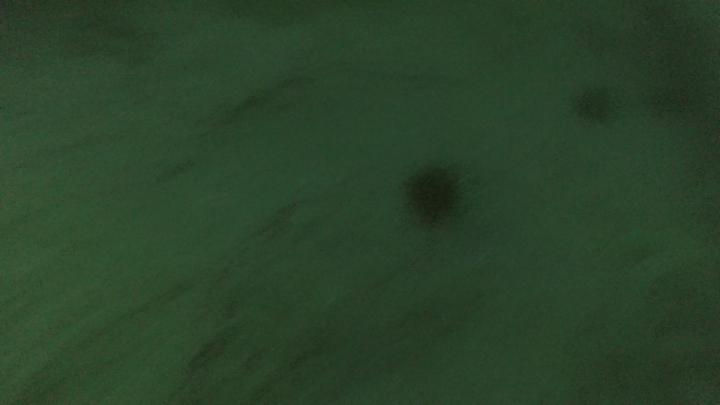echinus: (397, 157, 468, 231)
